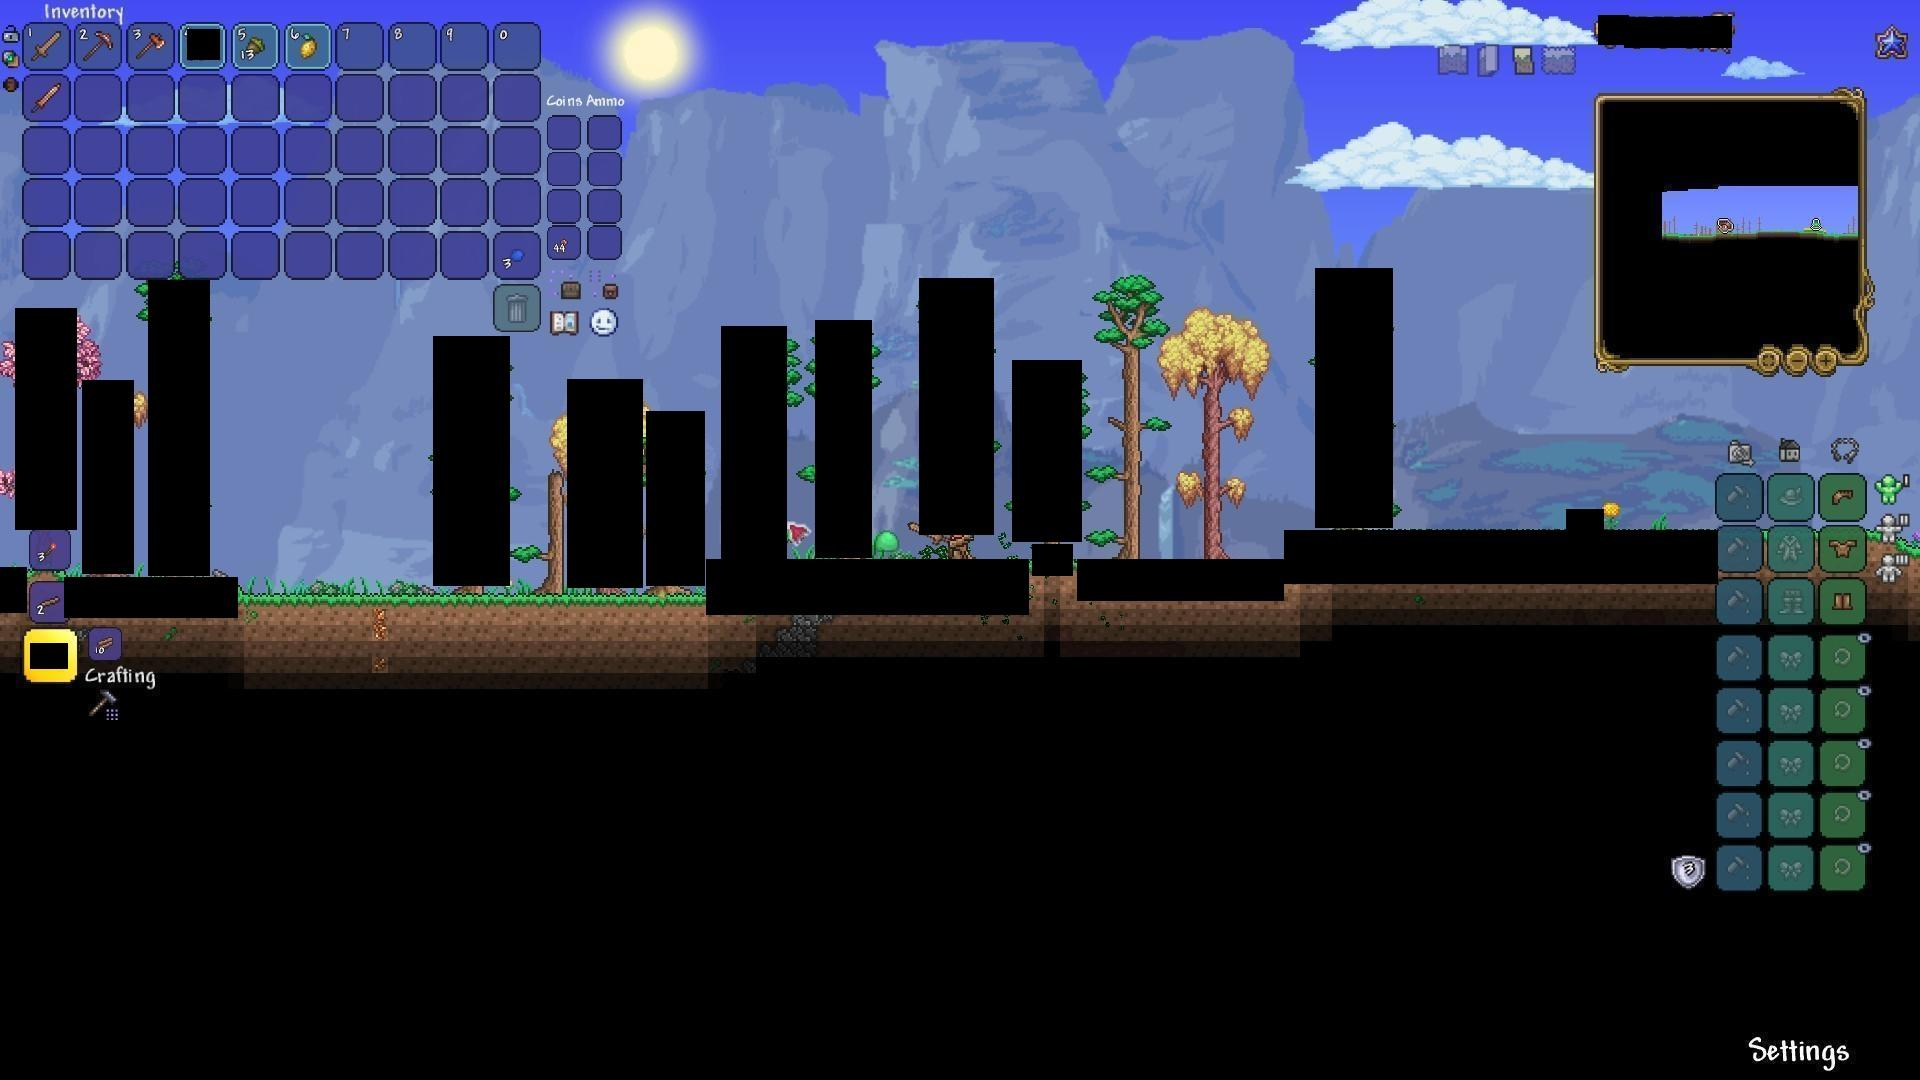breastplate: (1830, 538, 1859, 559)
dirt: (240, 589, 702, 628)
helmet: (1828, 483, 1858, 510)
legs: (1832, 588, 1855, 616)
slime: (872, 530, 899, 556)
tree: (1160, 307, 1267, 559), (1093, 269, 1156, 556)
wood: (91, 629, 123, 659)
